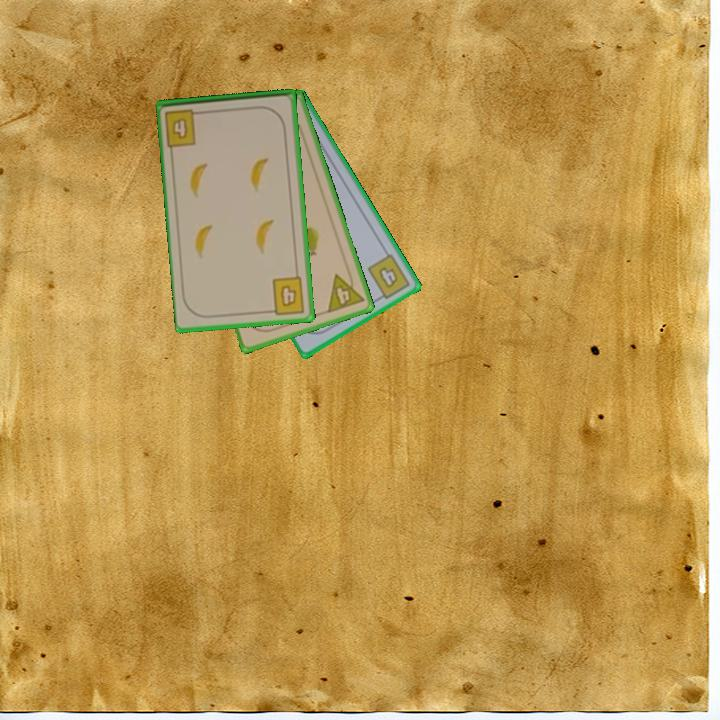4b: (364, 250, 413, 304), (161, 105, 206, 149), (265, 273, 307, 317)
4p: (324, 267, 367, 316)
